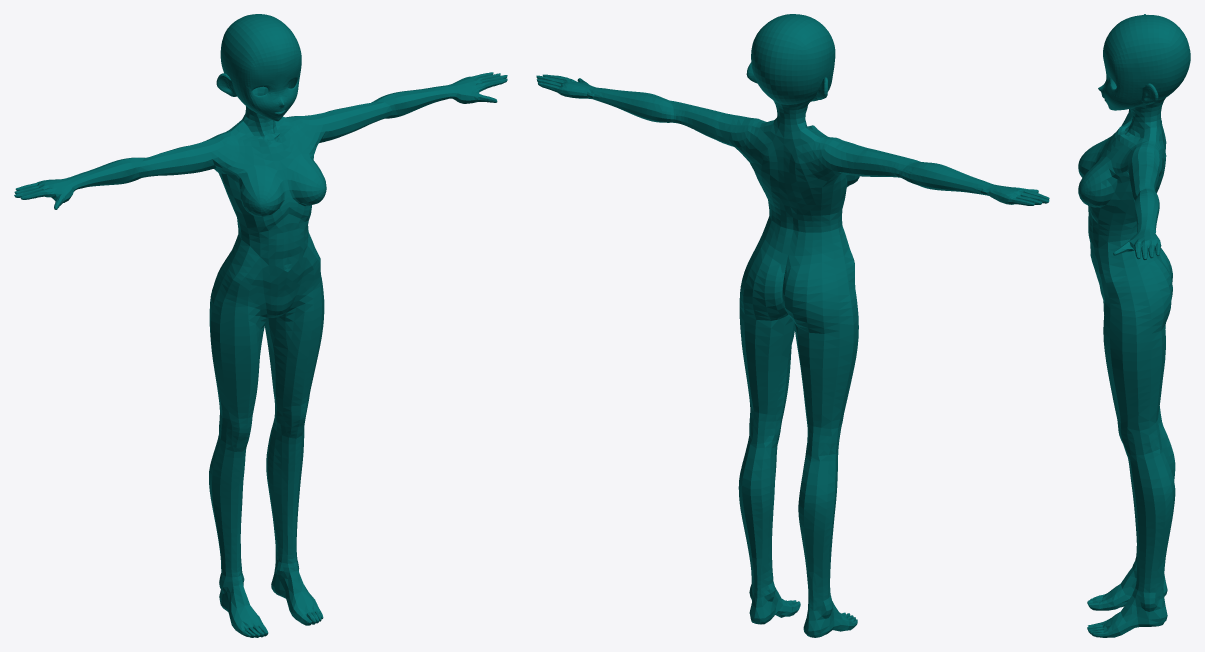
The model's file is sampler_output_debug.obj.
3 renders of one model, left to right at view 1: azimuth 30°, elevation 25°; view 2: azimuth 150°, elevation 25°; view 3: azimuth 270°, elevation 25°, orthographic. The views are drawn at different scales.
Bounding box in the file's own units: 1.39 × 1.59 × 0.2703.
